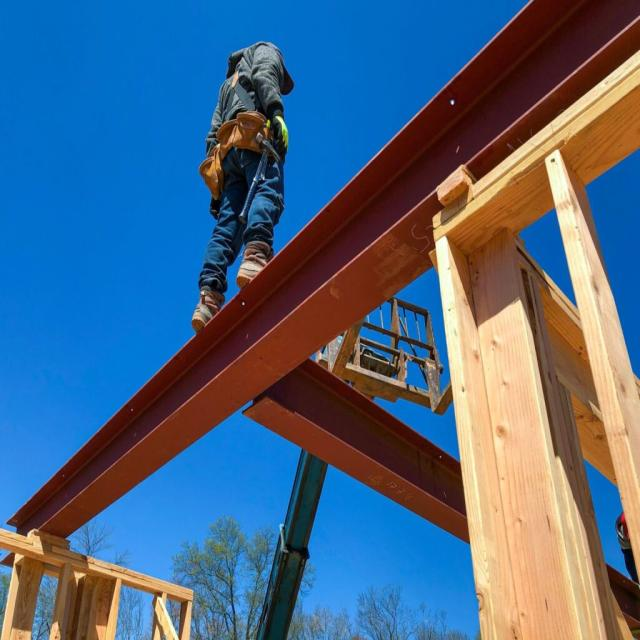steel beam: (1, 0, 640, 568)
